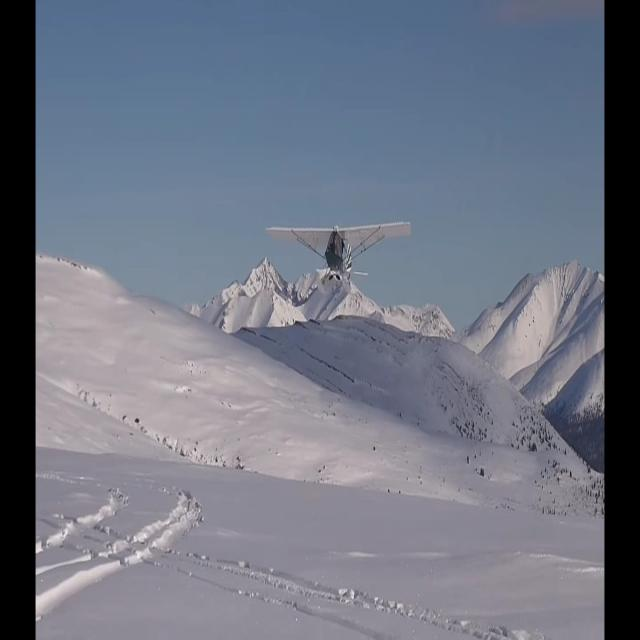iha: (266, 219, 412, 280)
